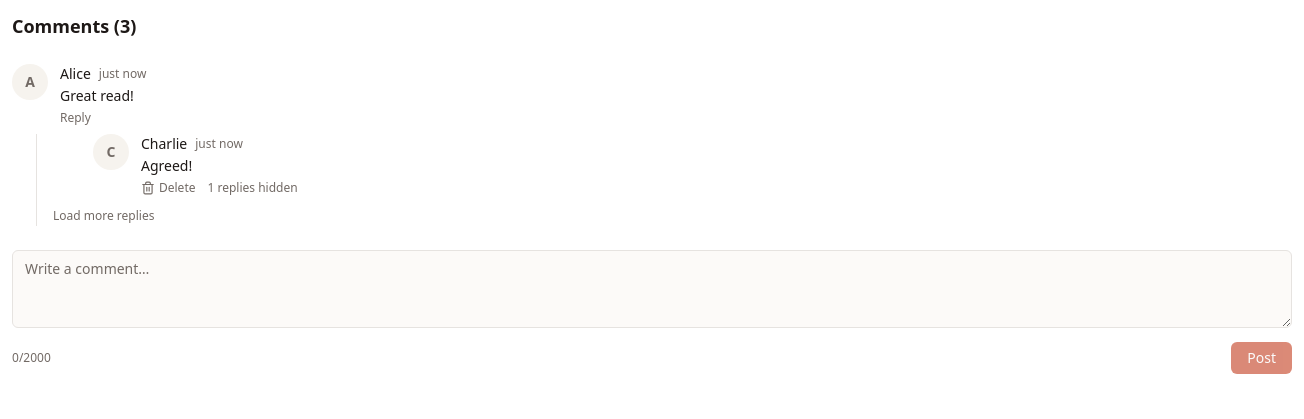
Test case: CommentSection › loads more replies inside a thread
Step 1. Click the button "Load more replies" → (104, 216), box [53,208,154,224]
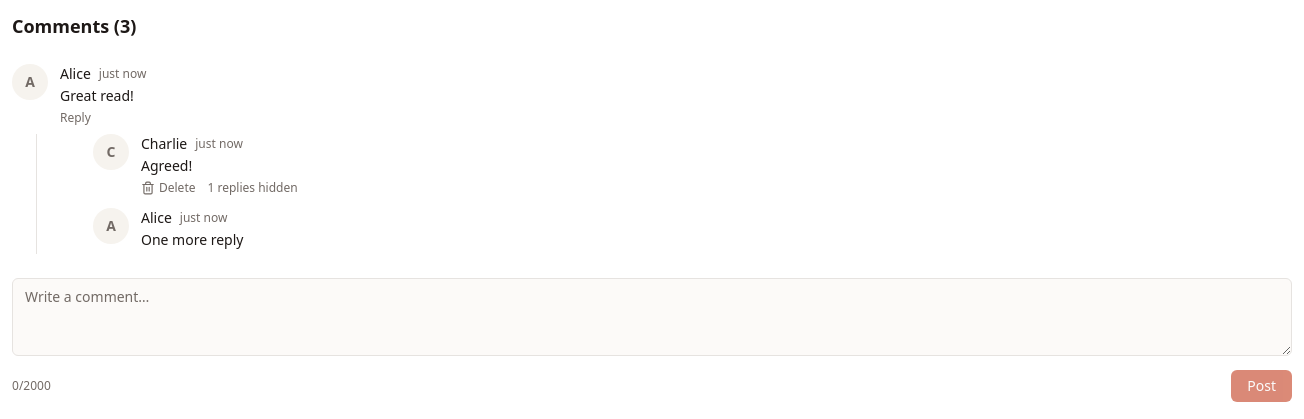
Result: the text "One more reply" is shown at [141,230,244,249]
